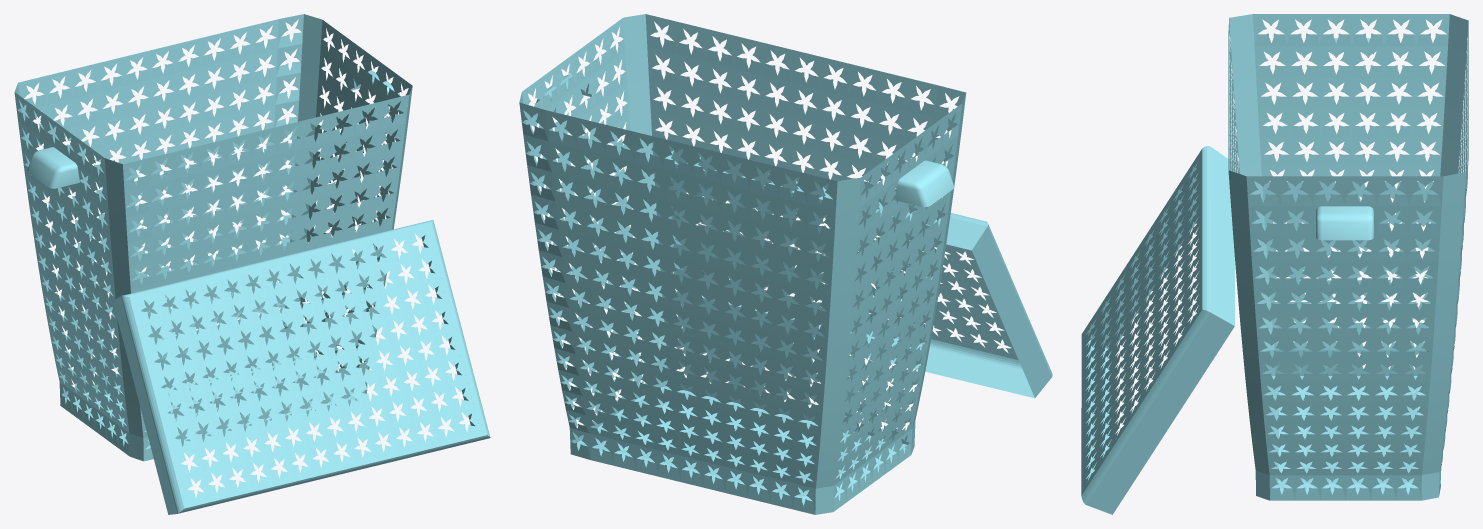
Rendered from dustbin.glb.
The picture shows the model from 3 angles, left to right: view 1: azimuth 30°, elevation 25°; view 2: azimuth 150°, elevation 25°; view 3: azimuth 270°, elevation 25°; orthographic projection. The views are drawn at different scales.
Parts seen in each view (by area): view 1: Laundry basket, Basket lid; view 2: Laundry basket, Basket lid; view 3: Laundry basket, Basket lid.
Part boxes in pixels (x1,y1,x2,y2): Laundry basket: (14,14,412,461); Basket lid: (113,220,490,514); Laundry basket: (519,14,966,514); Basket lid: (659,150,1052,398); Laundry basket: (1228,14,1468,500); Basket lid: (1081,146,1234,514).
Size of the model in its own units: 0.6027 by 0.5125 by 0.5241.
